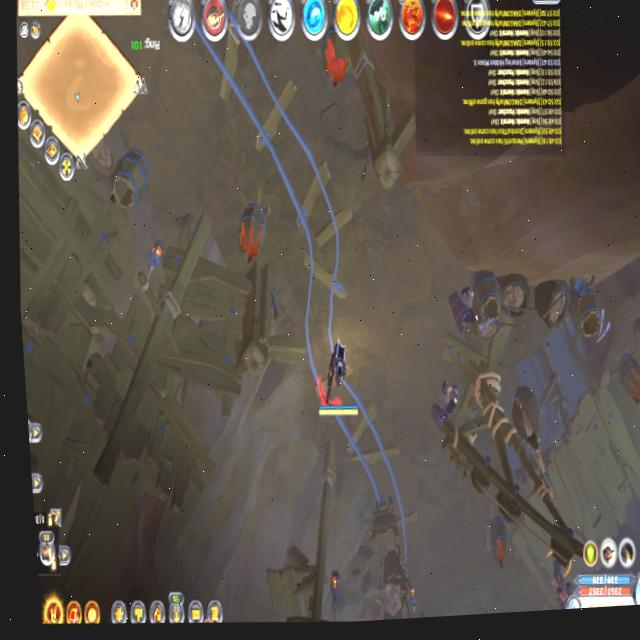ore: (439, 271, 490, 346), (533, 542, 585, 611), (424, 370, 464, 437)
red: (309, 328, 366, 426)
